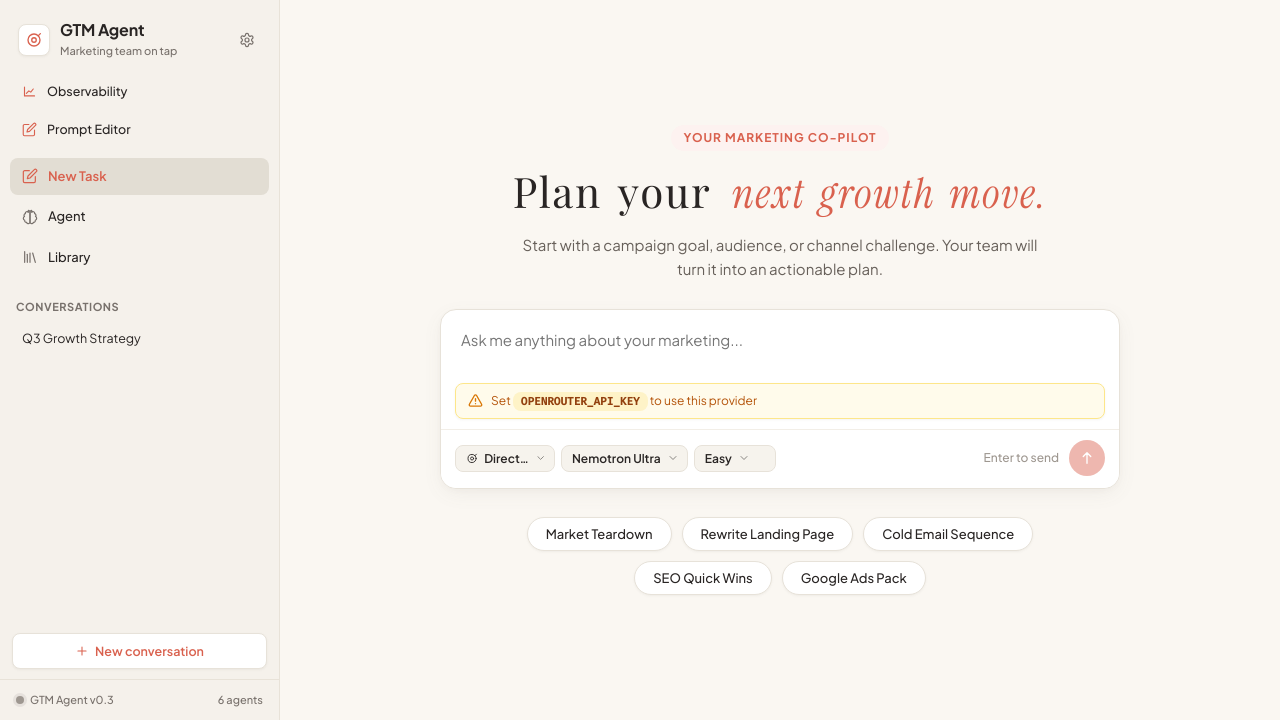
it: App conversation threads regression suite › renders threads from localStorage and loads message history when thread is clicked
Click the text "Q3 Growth Strategy".
click(81, 338)  # box [22,330,141,346]
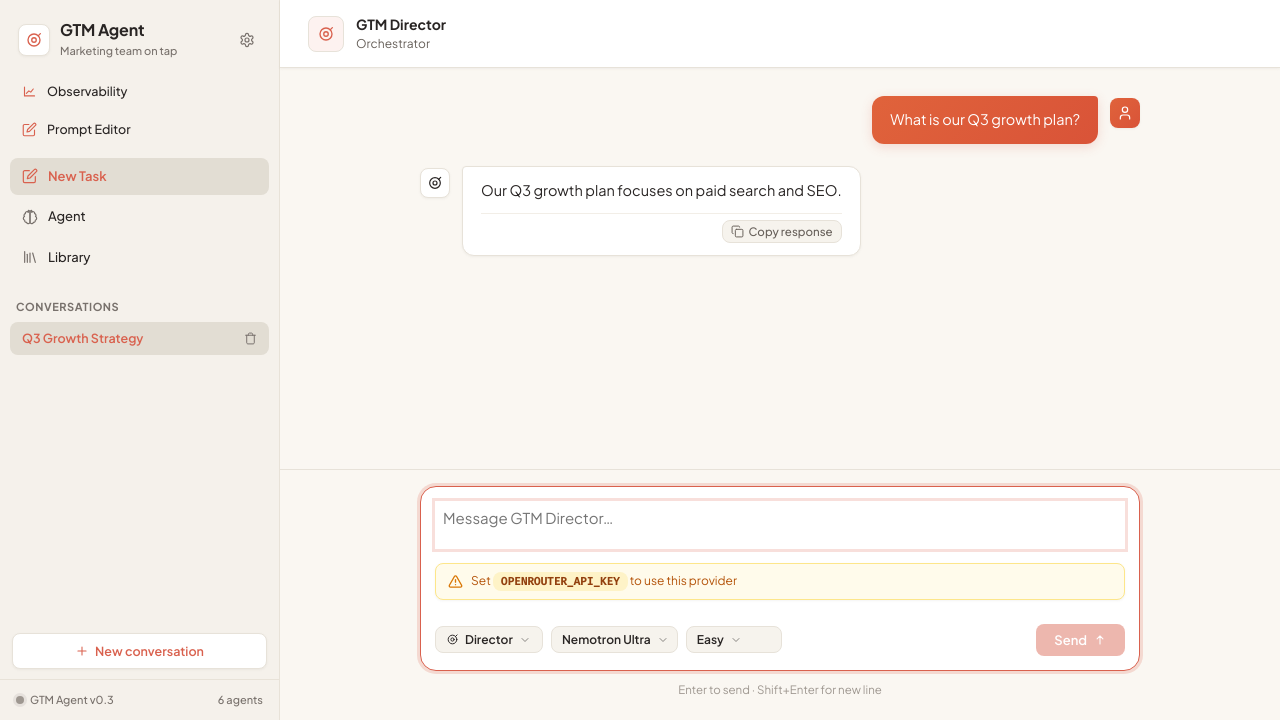
Result: the text "What is our Q3 growth plan?" is shown at [890,108,1080,132]
Result: the text "Our Q3 growth plan focuses on paid search and SEO." is shown at [481,179,842,203]
